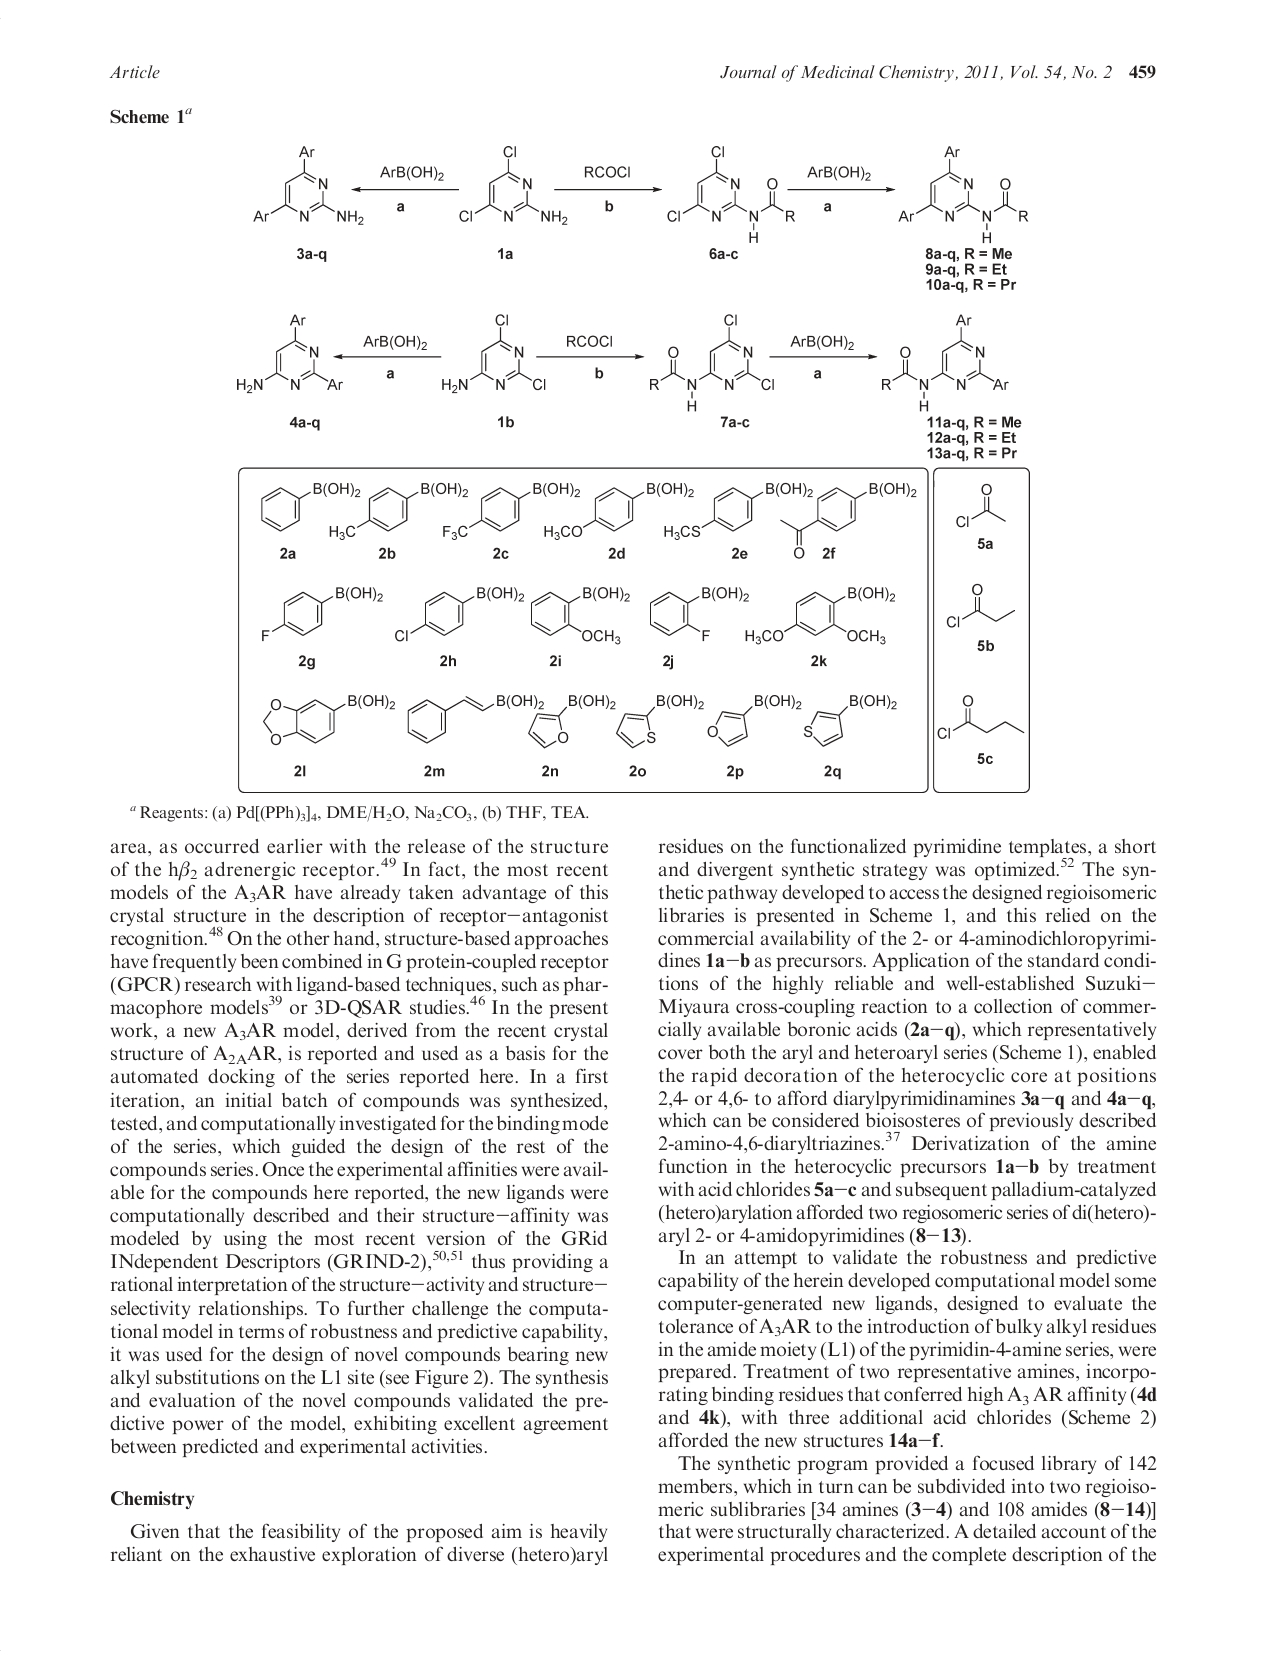exist_molecular: (662, 142, 799, 243), (898, 144, 1031, 246), (646, 313, 777, 412), (880, 313, 1011, 411), (777, 481, 919, 563), (739, 582, 898, 650), (251, 141, 367, 233), (453, 141, 570, 227), (233, 311, 344, 398), (440, 311, 548, 399), (541, 479, 693, 540), (327, 479, 469, 541), (662, 481, 813, 540), (438, 479, 581, 540), (391, 585, 528, 648), (258, 581, 386, 646), (261, 690, 398, 746), (406, 692, 547, 743), (529, 578, 633, 648), (646, 582, 751, 644), (614, 684, 703, 750), (801, 690, 900, 747), (257, 480, 362, 533), (527, 688, 616, 750), (705, 692, 802, 747), (936, 696, 1027, 747), (946, 578, 1015, 630), (951, 481, 1007, 533)
